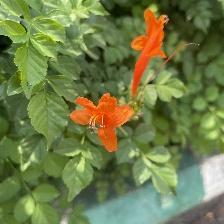honeysuckle: (71, 93, 134, 156)
